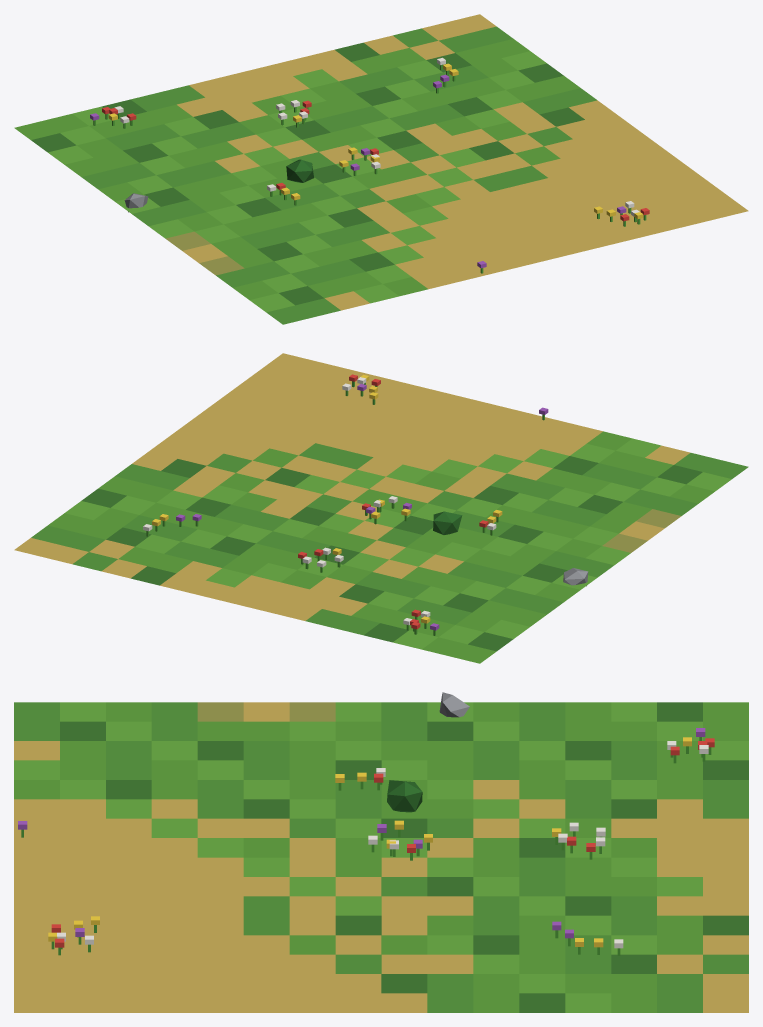
The model's file is chunk_8_12.glb.
3 renders of one model, top to bottom at view 1: azimuth 30°, elevation 25°; view 2: azimuth 150°, elevation 25°; view 3: azimuth 270°, elevation 25°, orthographic. The views are drawn at different scales.
Parts seen in each view (by area): view 1: chunk_8_12; view 2: chunk_8_12; view 3: chunk_8_12.
Part boxes in pixels (x1,y1,x2,y2): chunk_8_12: [14, 14, 748, 324]; chunk_8_12: [14, 353, 748, 663]; chunk_8_12: [14, 692, 748, 1012].
Bounding box in the file's own units: 16 × 0.8519 × 16.
